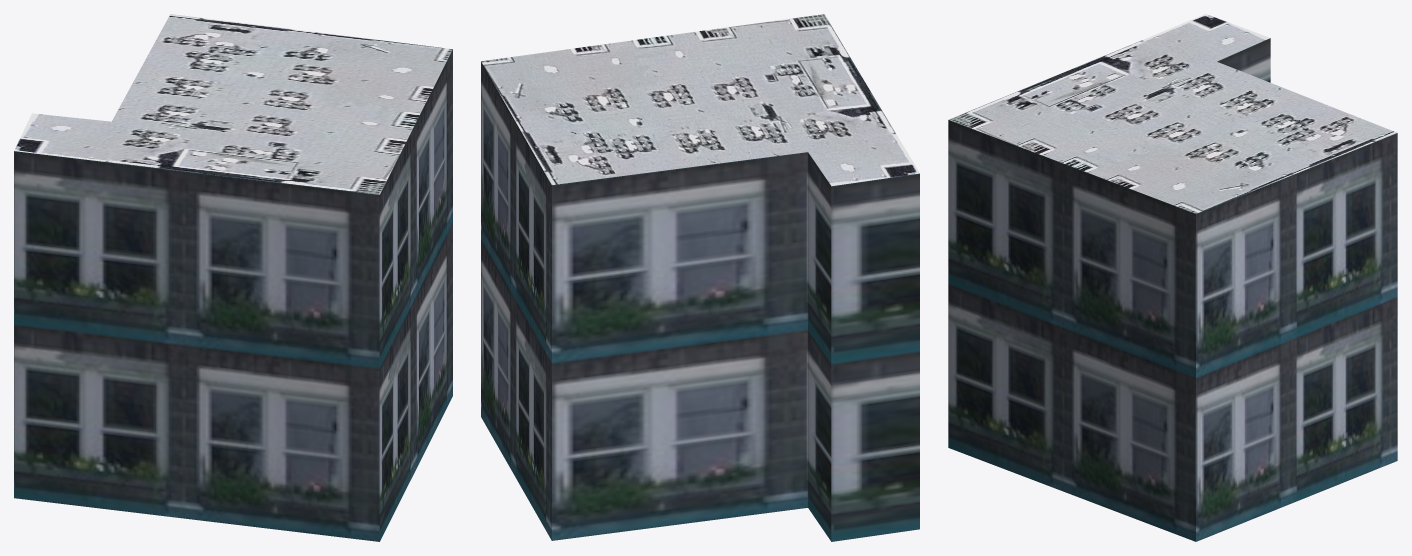
The model's file is ResTex__1265.fbx.
3 views of the same model, side by side, from view 1: azimuth 30°, elevation 25°; view 2: azimuth 150°, elevation 25°; view 3: azimuth 270°, elevation 25° (orthographic). The views are drawn at different scales.
Parts seen in each view (by area): view 1: CityEngineMaterial_11_m, CityEngineMaterial_4_m; view 2: CityEngineMaterial_11_m, CityEngineMaterial_4_m; view 3: CityEngineMaterial_11_m, CityEngineMaterial_4_m.
Part boxes in pixels (x1=…): CityEngineMaterial_11_m: x1=14, y1=49, x2=452, y2=541; CityEngineMaterial_4_m: x1=14, y1=14, x2=452, y2=194; CityEngineMaterial_11_m: x1=481, y1=61, x2=919, y2=541; CityEngineMaterial_4_m: x1=481, y1=14, x2=919, y2=186; CityEngineMaterial_11_m: x1=948, y1=38, x2=1397, y2=541; CityEngineMaterial_4_m: x1=948, y1=14, x2=1397, y2=213.
Bounding box in the file's own units: 7.84 × 6 × 7.45.
2 materials, 2 textured.
